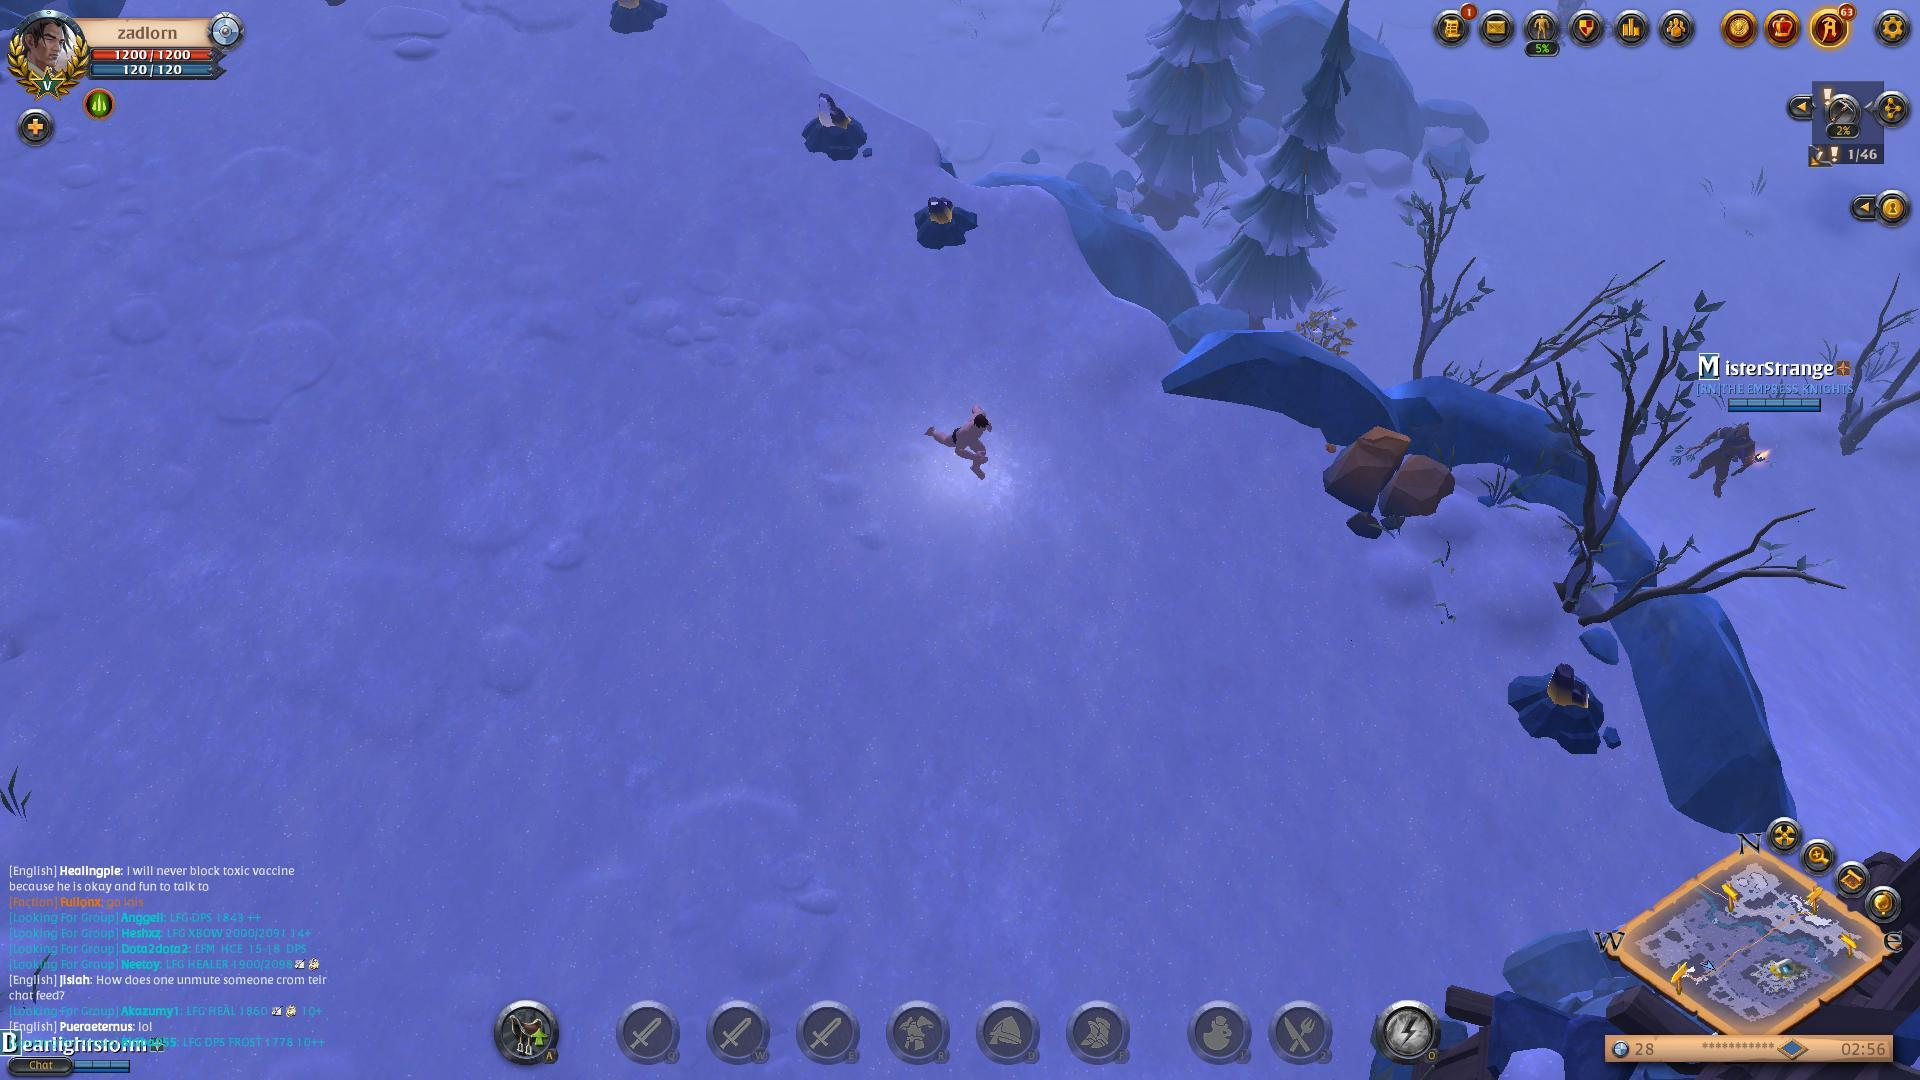copper_ore: (1503, 654, 1626, 758), (800, 82, 877, 171), (893, 193, 992, 260)
limestone: (1321, 419, 1462, 530)
